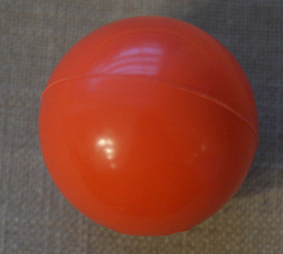Ball: (39, 15, 260, 239)
